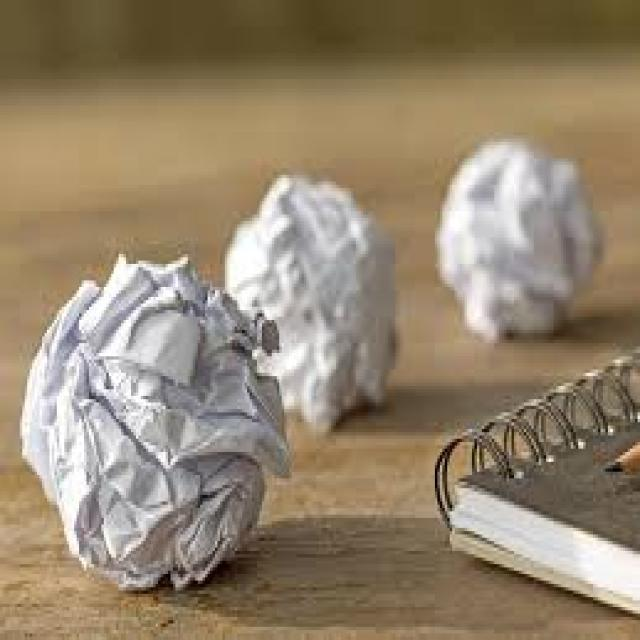Paper: (25, 259, 287, 591), (224, 180, 399, 424), (441, 143, 604, 329)
